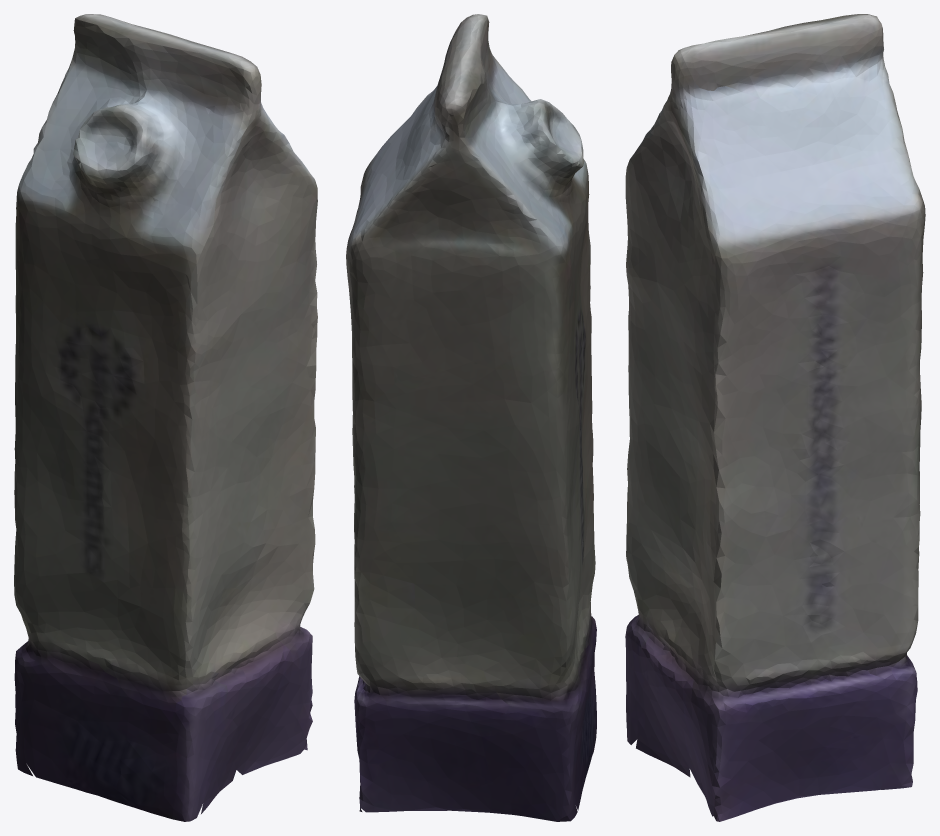
File: lipstick.glb
3 views of the same model, side by side, from view 1: azimuth 30°, elevation 25°; view 2: azimuth 150°, elevation 25°; view 3: azimuth 270°, elevation 25° (orthographic). The views are drawn at different scales.
Parts seen in each view (by area): view 1: Mesh_0; view 2: Mesh_0; view 3: Mesh_0.
Part boxes in pixels (x1,y1,x2,y2): Mesh_0: [14, 14, 317, 821]; Mesh_0: [346, 14, 596, 821]; Mesh_0: [625, 14, 925, 821].
Size of the model in its own units: 0.5636 by 1.54 by 0.5692.
Materials: 1 (1 with a texture image).
